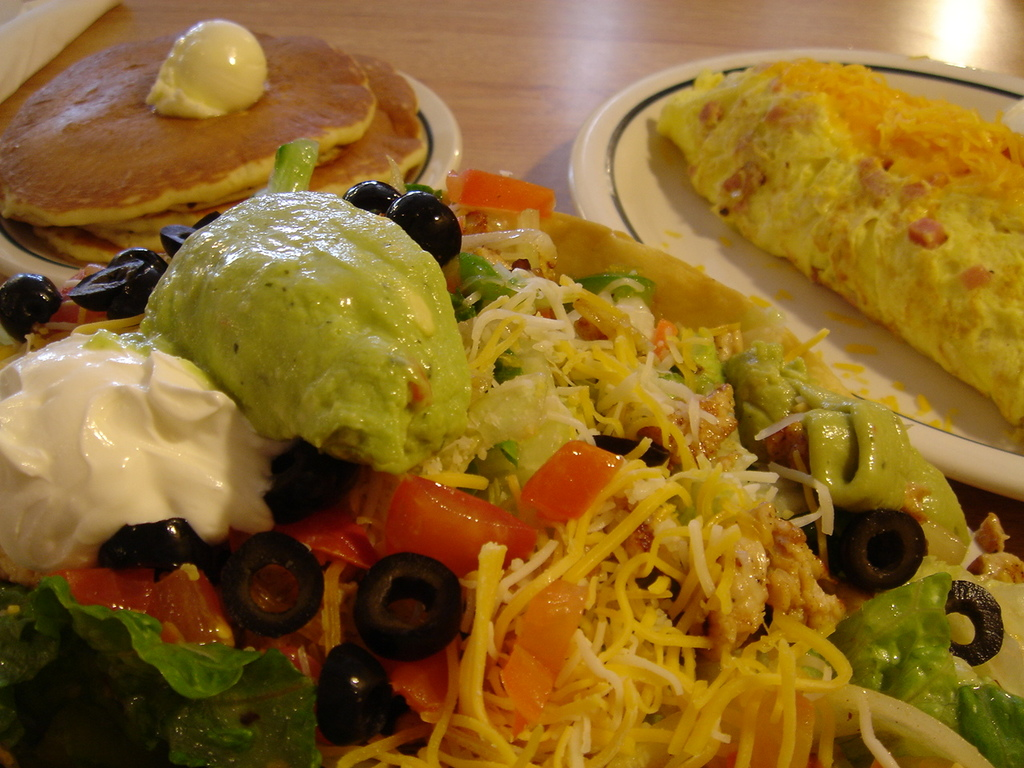taco: (1, 113, 1016, 768)
